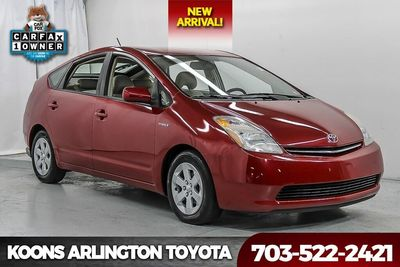Toyota Prius: (21, 42, 386, 229)
